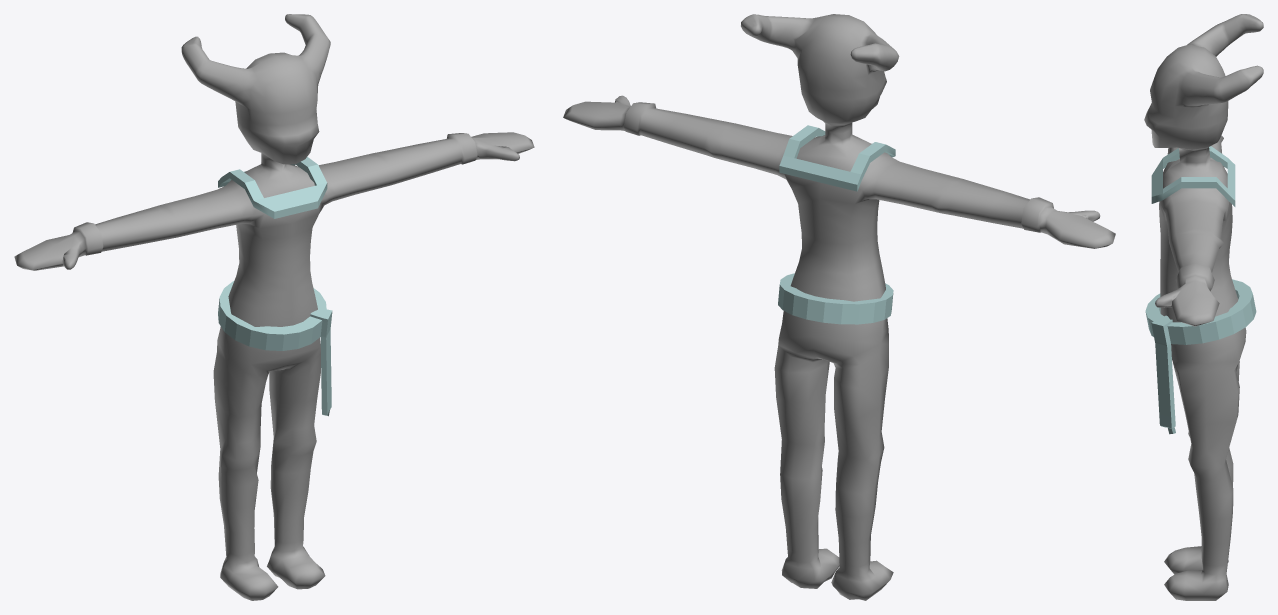
The model's file is Horned_aide_model.fbx.
3 views of the same model, side by side, from view 1: azimuth 30°, elevation 25°; view 2: azimuth 150°, elevation 25°; view 3: azimuth 270°, elevation 25° (orthographic). The views are drawn at different scales.
Parts seen in each view (by area): view 1: pCube13, pCylinder2, pCube15; view 2: pCube13, pCylinder2, pCube15; view 3: pCube13, pCylinder2, pCube15.
Boxes of the visible parts, box(x1,y1,x2,y2) form: pCube13: box(14, 14, 534, 600); pCylinder2: box(218, 281, 332, 416); pCube15: box(218, 156, 327, 218); pCube13: box(563, 14, 1115, 600); pCylinder2: box(778, 273, 893, 324); pCube15: box(779, 125, 895, 191); pCube13: box(1144, 14, 1263, 600); pCylinder2: box(1145, 279, 1256, 434); pCube15: box(1151, 146, 1235, 206).
Bounding box in the file's own units: 7.29 × 7.29 × 1.46.
